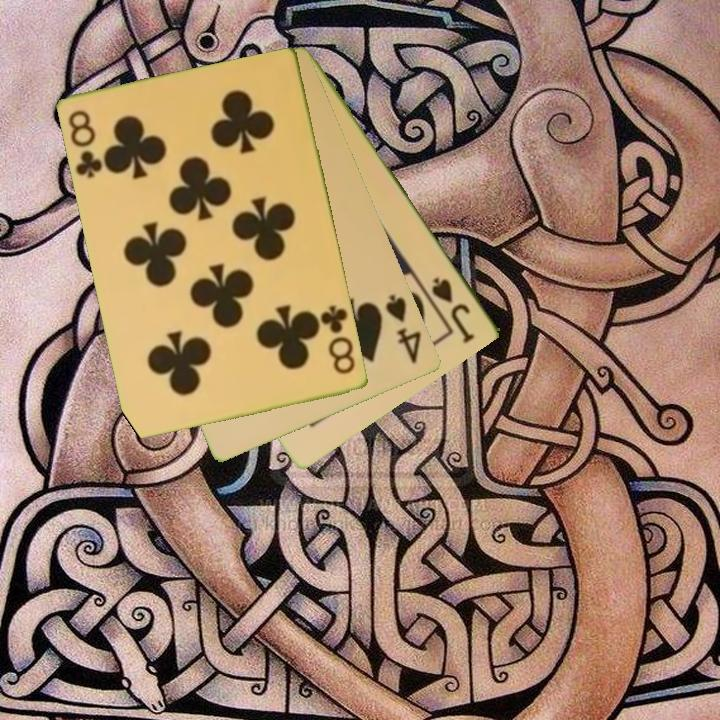4s: (382, 291, 425, 367)
8c: (317, 302, 359, 378), (65, 107, 106, 182)
Js: (428, 273, 478, 345)
